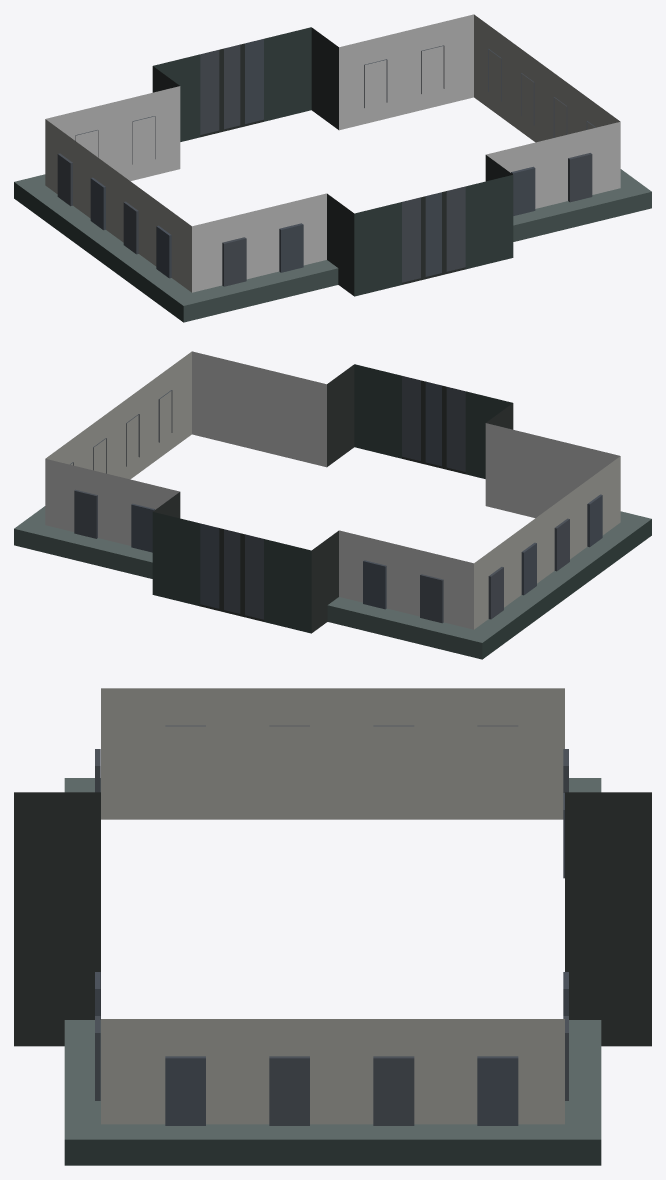
File: TB_CITY_Skysc_G_BodyB_Gray.FBX
3 renders of one model, top to bottom at view 1: azimuth 30°, elevation 25°; view 2: azimuth 150°, elevation 25°; view 3: azimuth 270°, elevation 25°, orthographic. The views are drawn at different scales.
Visible parts, largest first — view 1: TB_CITY_Skysc_G_BodyB_Gray; view 2: TB_CITY_Skysc_G_BodyB_Gray; view 3: TB_CITY_Skysc_G_BodyB_Gray.
Boxes of the visible parts, x1,y1,x2,y2 form: TB_CITY_Skysc_G_BodyB_Gray: (14, 14, 651, 322); TB_CITY_Skysc_G_BodyB_Gray: (14, 351, 651, 659); TB_CITY_Skysc_G_BodyB_Gray: (14, 688, 651, 1165).
Bounding box in the file's own units: 29.5 × 5 × 22.
